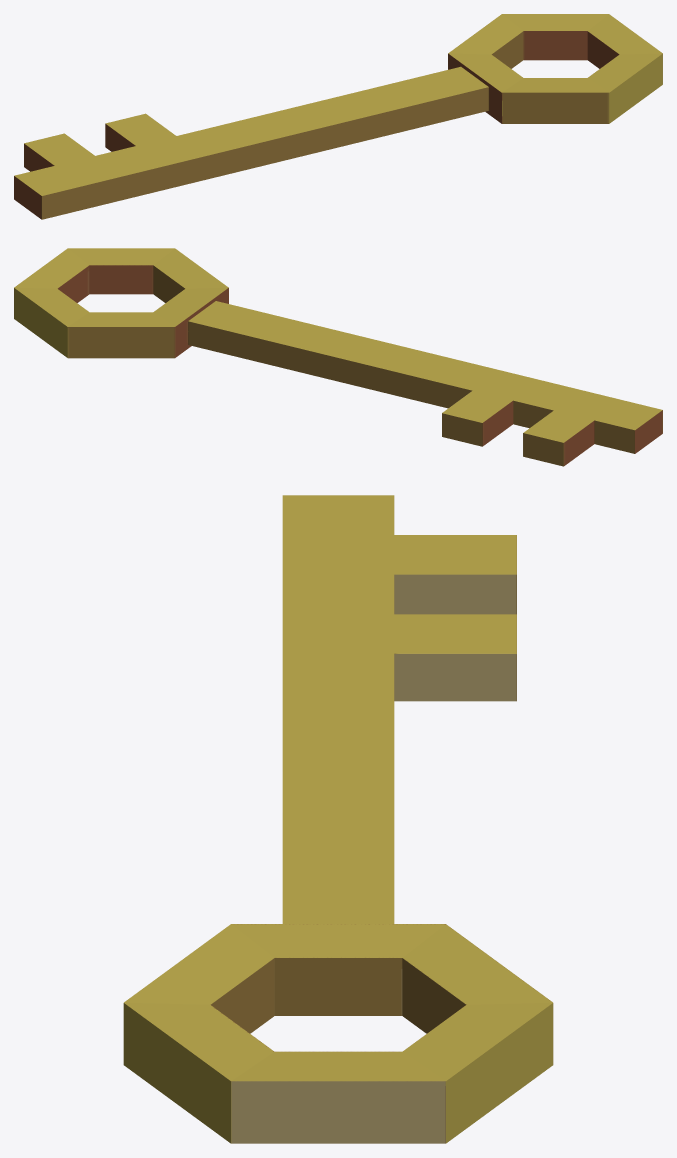
The model's file is kunci alternatif.fbx.
3 views of the same model, one above another, from view 1: azimuth 30°, elevation 25°; view 2: azimuth 150°, elevation 25°; view 3: azimuth 270°, elevation 25° (orthographic). The views are drawn at different scales.
Parts seen in each view (by area): view 1: kunci alternatif 2; view 2: kunci alternatif 2; view 3: kunci alternatif 2.
Boxes of the visible parts, x1,y1,x2,y2 form: kunci alternatif 2: [14, 14, 662, 219]; kunci alternatif 2: [14, 248, 662, 466]; kunci alternatif 2: [123, 495, 553, 1143].
Bounding box in the file's own units: 51.74 × 2.54 × 15.83.
